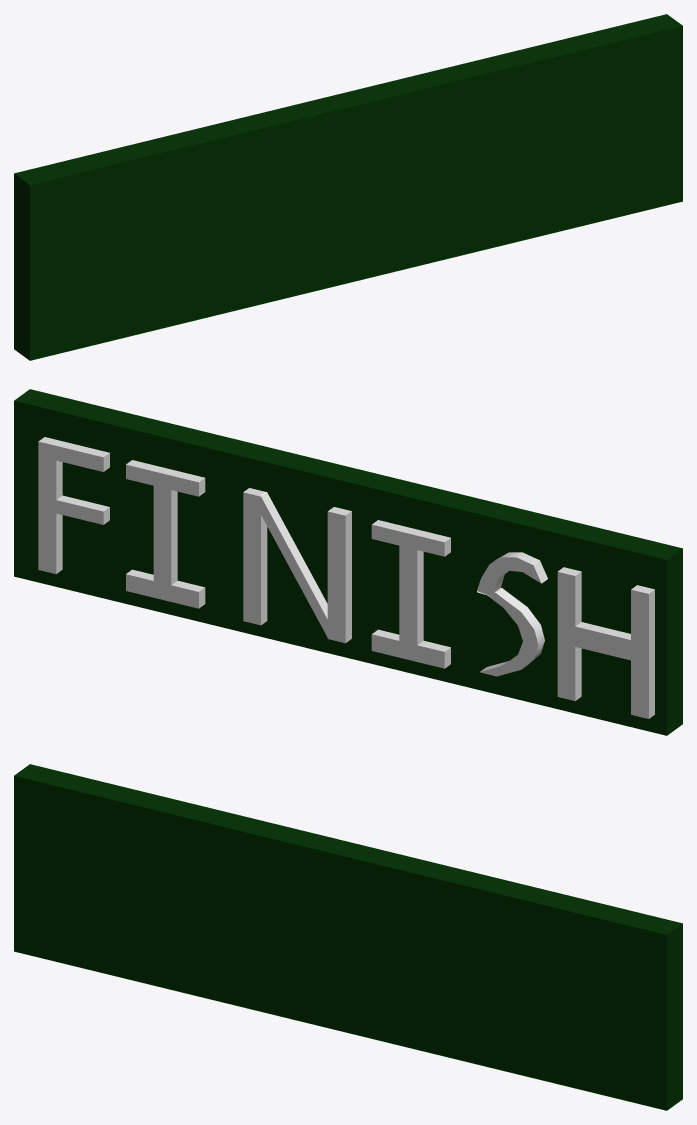
Rendered from Finishboard.fbx.
3 renders of one model, top to bottom at view 1: azimuth 30°, elevation 25°; view 2: azimuth 150°, elevation 25°; view 3: azimuth 330°, elevation 25°, orthographic.
Visible parts, largest first — view 1: pCube15; view 2: pCube15; view 3: pCube15.
Part boxes in pixels (box(x1,y1,x2,y2)): pCube15: box(14, 14, 682, 360); pCube15: box(14, 389, 682, 735); pCube15: box(14, 764, 682, 1110).
Bounding box in the file's own units: 0.8444 × 0.2172 × 0.0505.
